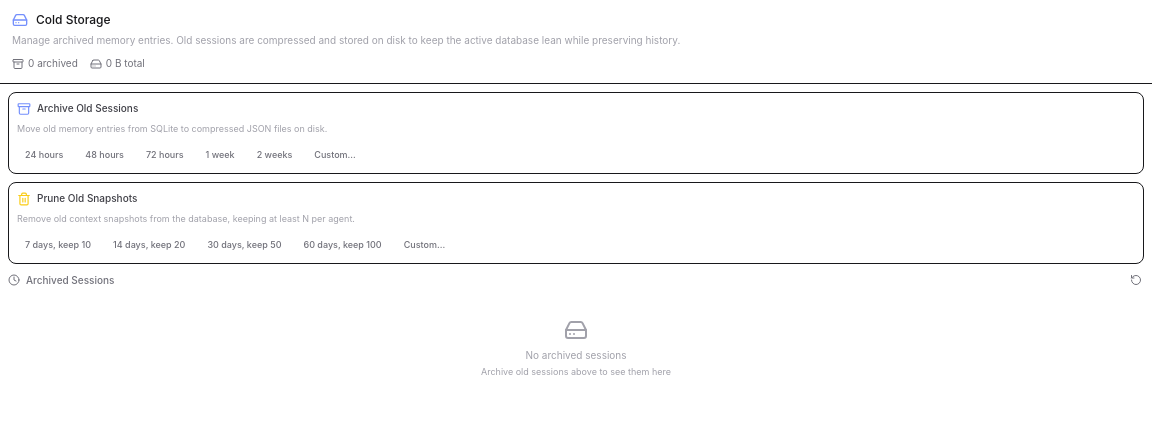
ColdStoragePanel › archive actions › shows success toast with count when archive returns > 0
The width and height of the screenshot is (1152, 427).
Click the button "24 hours" at [44, 155], box [17, 144, 71, 165]
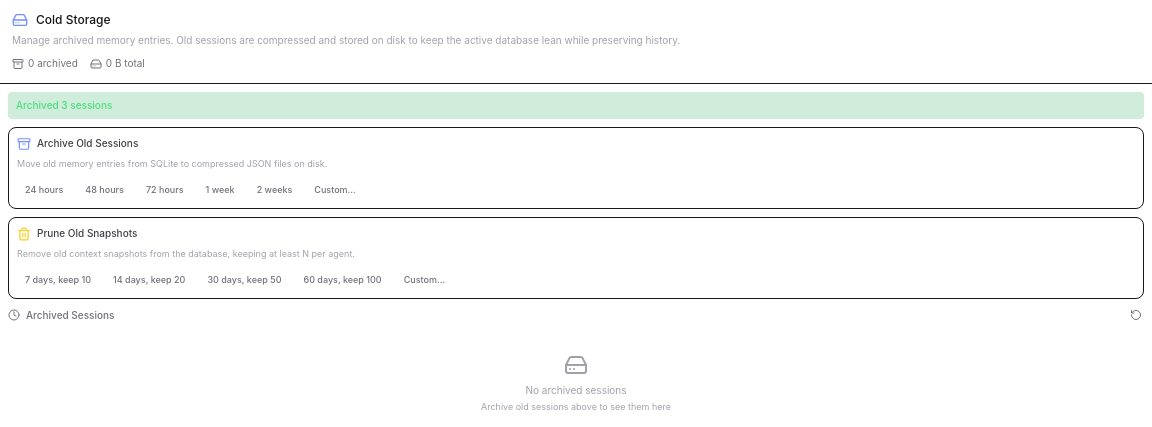
Now the text "Archived 3 sessions" is shown, box [8, 92, 1144, 119]
